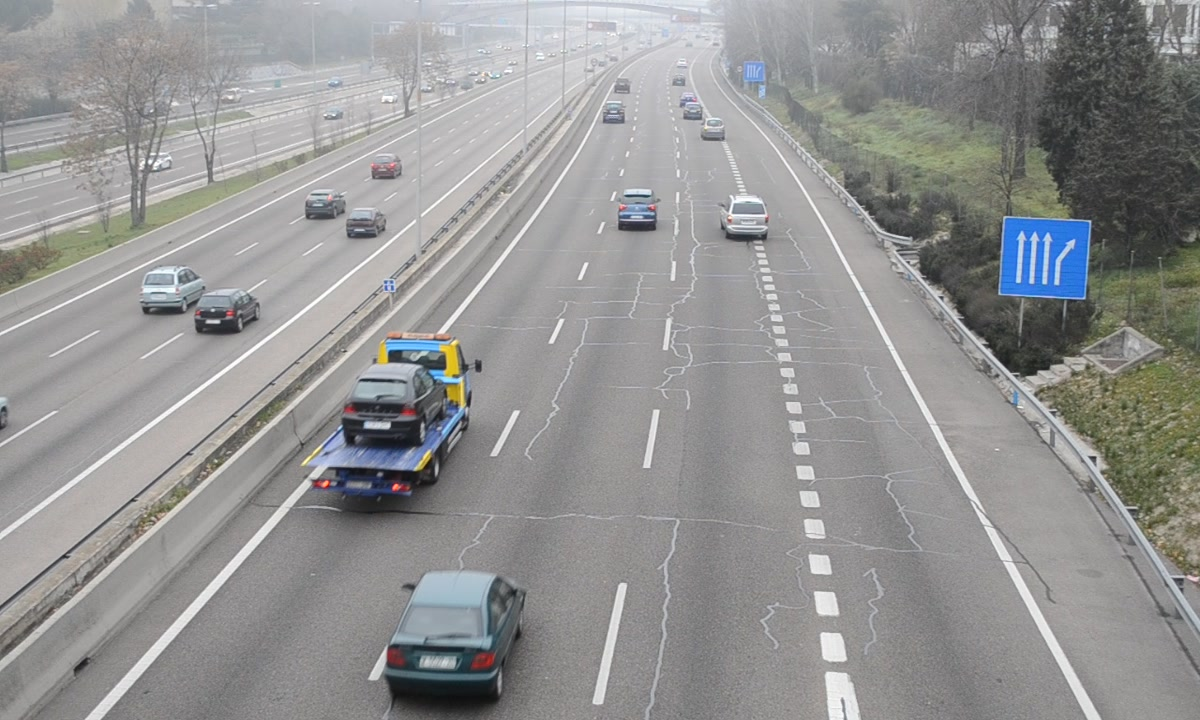car: (385, 572, 523, 695), (723, 194, 770, 237), (616, 188, 657, 229), (703, 115, 728, 143), (603, 101, 625, 124)
small-truck: (301, 333, 473, 499)
